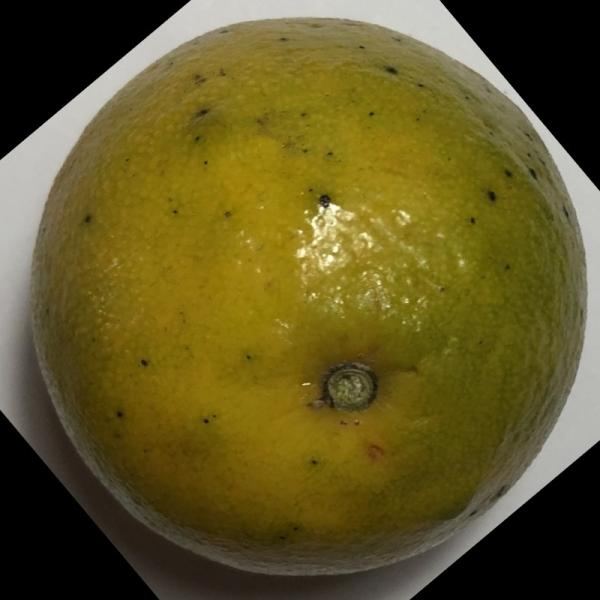Machas negras: (17, 10, 597, 573)
